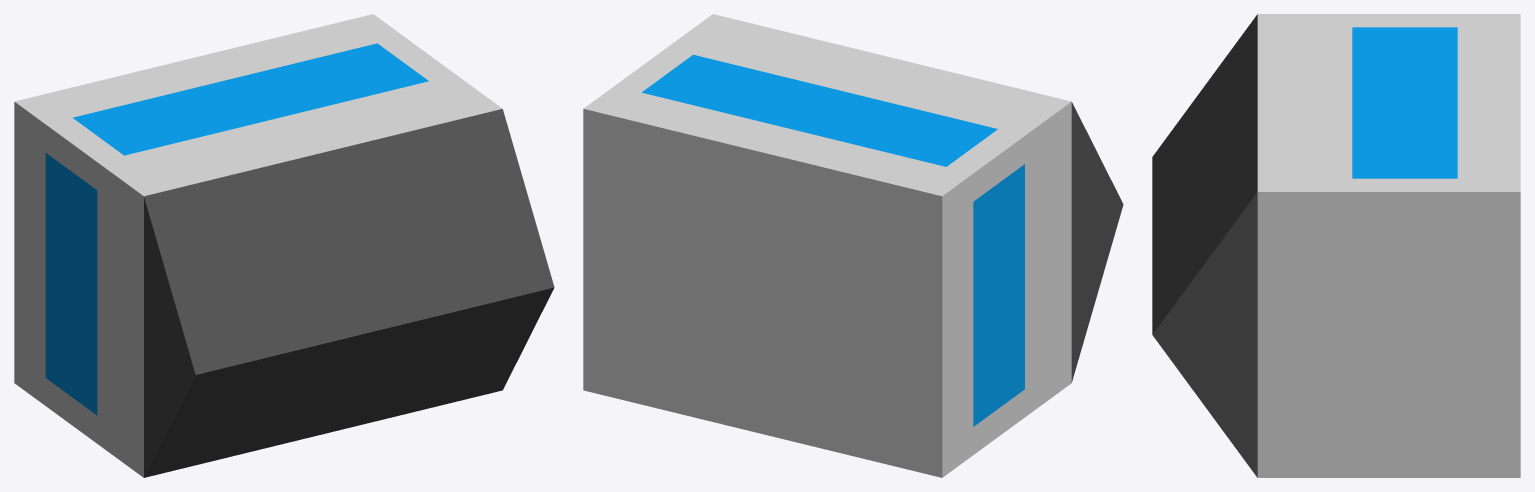
The model's file is house_2.dae.
3 views of the same model, side by side, from view 1: azimuth 30°, elevation 25°; view 2: azimuth 150°, elevation 25°; view 3: azimuth 270°, elevation 25° (orthographic).
Parts seen in each view (by area): view 1: coords_ME_ID3_MA_material, coords_ME_ID11_MA_material_8, coords_ME_ID19_MA_material_6, coords_ME_ID39_MA_material_6; view 2: coords_ME_ID11_MA_material_8, coords_ME_ID19_MA_material_6, coords_ME_ID39_MA_material_6, coords_ME_ID3_MA_material; view 3: coords_ME_ID11_MA_material_8, coords_ME_ID3_MA_material, coords_ME_ID19_MA_material_6.
Boxes of the visible parts, x1,y1,x2,y2 form: coords_ME_ID3_MA_material: (144,109,554,477); coords_ME_ID11_MA_material_8: (14,14,502,477); coords_ME_ID19_MA_material_6: (73,43,428,155); coords_ME_ID39_MA_material_6: (45,153,97,415); coords_ME_ID11_MA_material_8: (583,14,1071,477); coords_ME_ID19_MA_material_6: (642,54,997,166); coords_ME_ID39_MA_material_6: (973,164,1024,426); coords_ME_ID3_MA_material: (1071,102,1123,382); coords_ME_ID11_MA_material_8: (1257,14,1520,477); coords_ME_ID3_MA_material: (1152,14,1257,477); coords_ME_ID19_MA_material_6: (1352,27,1457,178).
Bounding box in the file's own units: 77.95 × 58.46 × 68.21.
